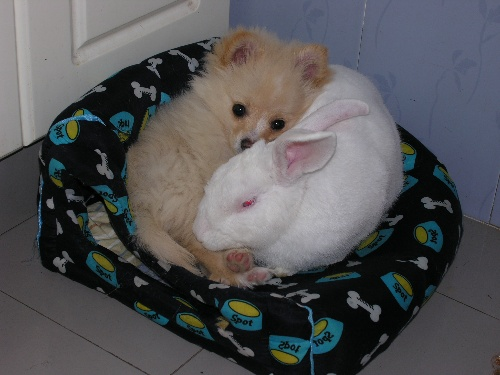dog: (128, 31, 312, 269)
rabbit: (188, 71, 418, 273)
